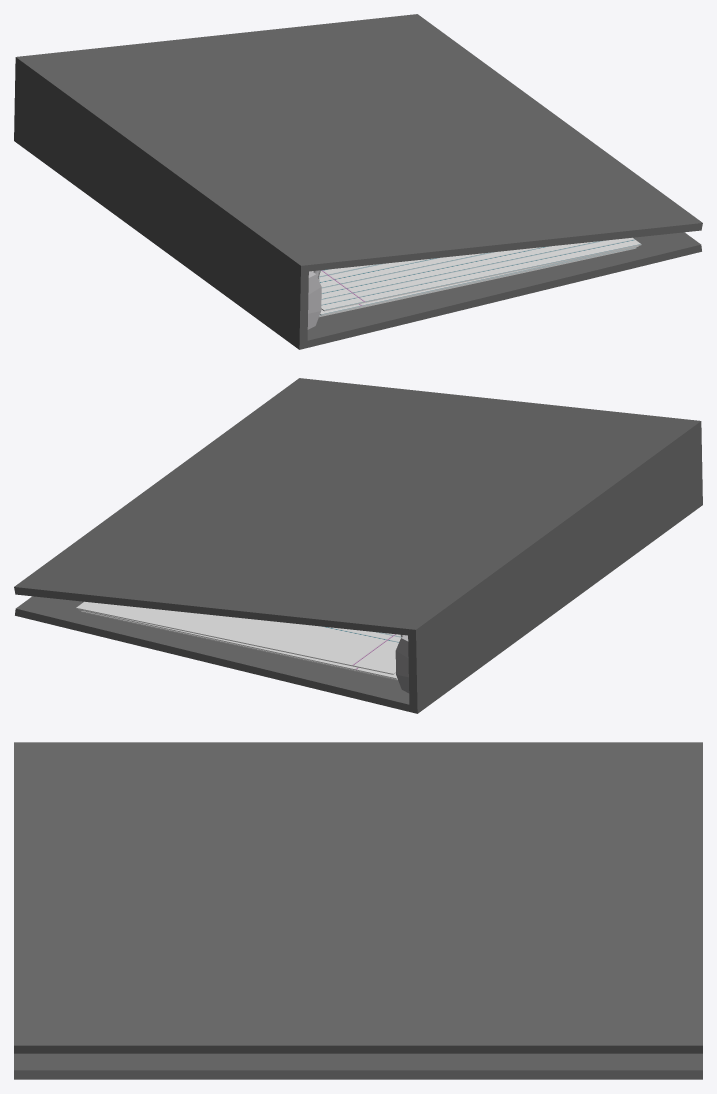
File: Binder Gray.fbx
3 views of the same model, one above another, from view 1: azimuth 30°, elevation 25°; view 2: azimuth 150°, elevation 25°; view 3: azimuth 270°, elevation 25° (orthographic). The views are drawn at different scales.
Visible parts, largest first — view 1: Binder Gray, Paper.009, Paper.008, Binder Metal segment.002, Paper.007; view 2: Binder Gray, Paper.009, Paper.008, Binder Metal segment.002, Paper.007; view 3: Binder Gray.
Boxes of the visible parts, x1,y1,x2,y2 form: Binder Gray: (14, 14, 702, 349); Paper.009: (312, 237, 641, 311); Paper.008: (318, 246, 638, 315); Binder Metal segment.002: (307, 271, 321, 329); Paper.007: (319, 247, 636, 317); Binder Gray: (14, 378, 702, 713); Paper.009: (76, 601, 401, 674); Paper.008: (79, 609, 397, 679); Binder Metal segment.002: (395, 635, 409, 693); Paper.007: (81, 611, 397, 680); Binder Gray: (14, 742, 702, 1079).
Size of the model in its own units: 0.5875 by 0.1164 by 0.7196.
3 materials, 1 textured.
